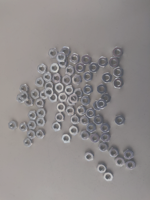nut: (112, 47, 124, 58), (101, 73, 113, 84), (97, 84, 108, 95), (113, 79, 124, 89), (114, 67, 124, 78), (109, 58, 120, 68), (88, 63, 99, 73), (75, 63, 85, 74), (101, 94, 112, 104), (70, 53, 80, 64), (65, 65, 75, 76), (61, 47, 72, 57), (57, 52, 67, 63), (72, 75, 83, 85), (115, 116, 126, 126), (97, 99, 107, 110), (100, 124, 111, 134), (94, 115, 105, 125), (80, 116, 90, 127), (100, 133, 111, 143), (98, 143, 109, 153), (104, 171, 114, 182), (63, 75, 73, 86), (82, 55, 92, 65), (83, 72, 93, 82), (83, 85, 93, 95), (81, 96, 91, 106), (86, 109, 96, 119), (127, 161, 137, 171), (109, 148, 119, 158), (85, 152, 95, 162), (97, 164, 107, 174), (62, 134, 72, 144), (52, 122, 62, 132), (23, 138, 33, 148), (58, 93, 68, 103), (74, 89, 84, 99), (8, 121, 18, 131), (55, 113, 65, 123), (38, 64, 48, 74), (50, 63, 60, 73), (52, 74, 62, 84), (35, 78, 45, 88), (35, 99, 45, 109), (99, 57, 108, 68), (125, 150, 134, 161), (49, 92, 58, 103), (31, 89, 40, 100), (49, 49, 58, 59), (93, 101, 102, 111), (57, 103, 66, 113), (116, 157, 125, 167), (91, 134, 100, 144), (81, 131, 90, 141), (70, 126, 79, 136), (71, 115, 80, 125), (77, 106, 86, 116), (66, 106, 75, 116), (70, 94, 79, 104), (37, 109, 47, 118), (55, 83, 64, 93), (65, 85, 74, 95), (45, 87, 54, 97), (43, 72, 52, 82), (20, 84, 29, 94), (36, 130, 45, 139), (37, 118, 46, 127), (28, 121, 37, 130), (27, 131, 36, 140), (19, 123, 28, 132), (28, 111, 37, 120), (20, 92, 29, 101), (17, 95, 26, 104), (40, 90, 48, 100), (25, 97, 33, 107), (67, 98, 76, 106), (58, 61, 68, 68), (45, 83, 54, 90)
